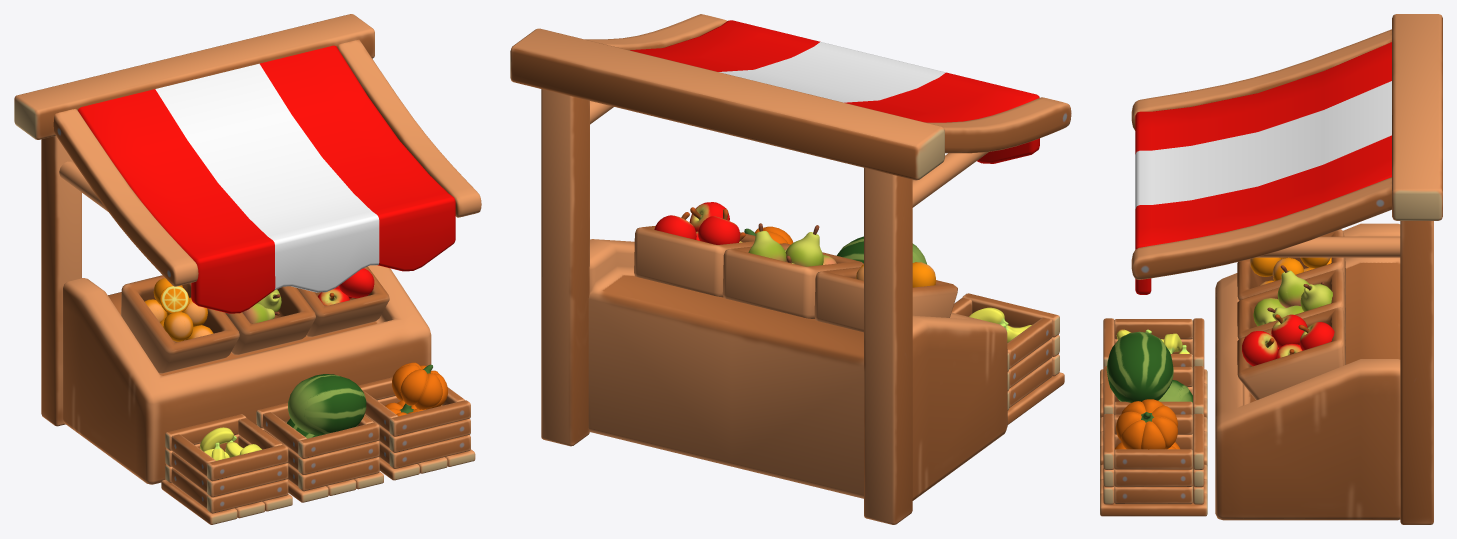
Rendered from fruit stand.fbx.
3 renders of one model, left to right at view 1: azimuth 30°, elevation 25°; view 2: azimuth 150°, elevation 25°; view 3: azimuth 270°, elevation 25°, orthographic. The views are drawn at different scales.
Parts seen in each view (by area): view 1: fruit stand, food box, food box.002, food box.001, watermelons, oranges, pumpkins, apples, bananas, pears; view 2: fruit stand, food box, apples, pears, bananas, watermelons; view 3: fruit stand, food box.002, watermelons, food box, apples, pumpkins, pears, food box.001, oranges, bananas.
Boxes of the visible parts, x1,y1,x2,y2 form: fruit stand: (14, 14, 481, 484); food box: (161, 414, 292, 524); food box.002: (358, 377, 475, 480); food box.001: (256, 402, 383, 502); watermelons: (286, 374, 366, 438); oranges: (144, 277, 213, 342); pumpkins: (385, 362, 447, 416); apples: (318, 268, 374, 305); bananas: (200, 427, 261, 460); pears: (242, 289, 281, 323); fruit stand: (510, 14, 1071, 524); food box: (951, 293, 1064, 424); apples: (654, 202, 745, 244); pears: (748, 223, 836, 266); bananas: (969, 307, 1031, 342); watermelons: (837, 236, 927, 264); fruit stand: (1131, 14, 1442, 524); food box.002: (1100, 413, 1207, 516); watermelons: (1106, 331, 1192, 402); food box: (1100, 318, 1207, 418); apples: (1242, 314, 1334, 366); pumpkins: (1114, 399, 1179, 449); pears: (1253, 265, 1332, 326); food box.001: (1100, 366, 1207, 466); oranges: (1249, 257, 1331, 285); bananas: (1116, 329, 1189, 353).
Bounding box in the file's own units: 245 × 223 × 200.
